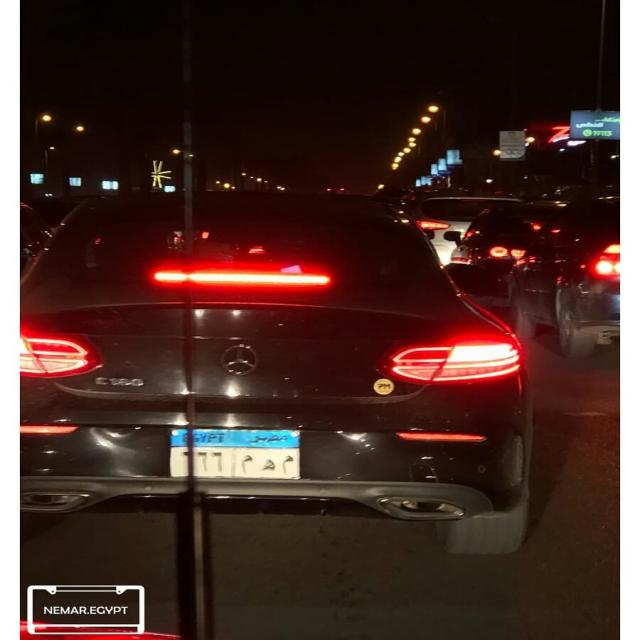License Plate: (166, 423, 306, 482)
